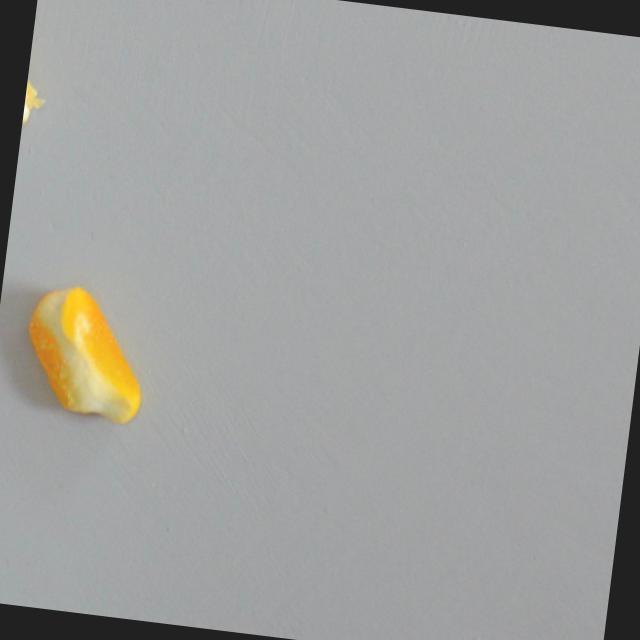dañado: (5, 270, 160, 437), (18, 48, 59, 158)
